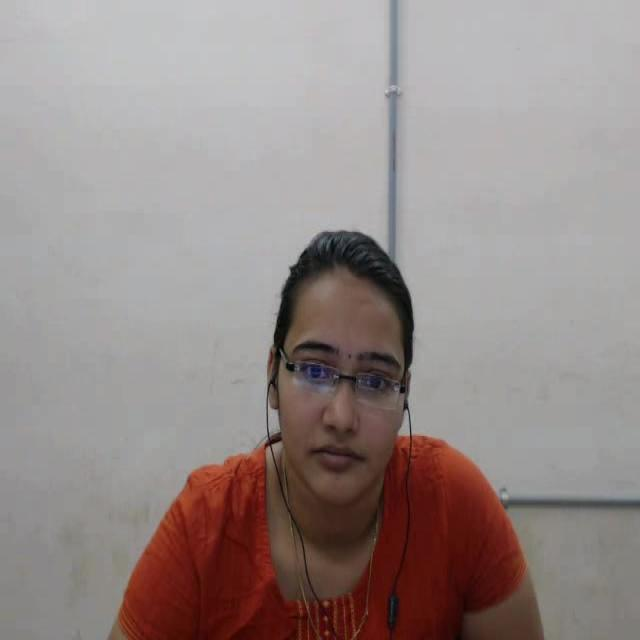Engaged: (225, 198, 460, 560)
